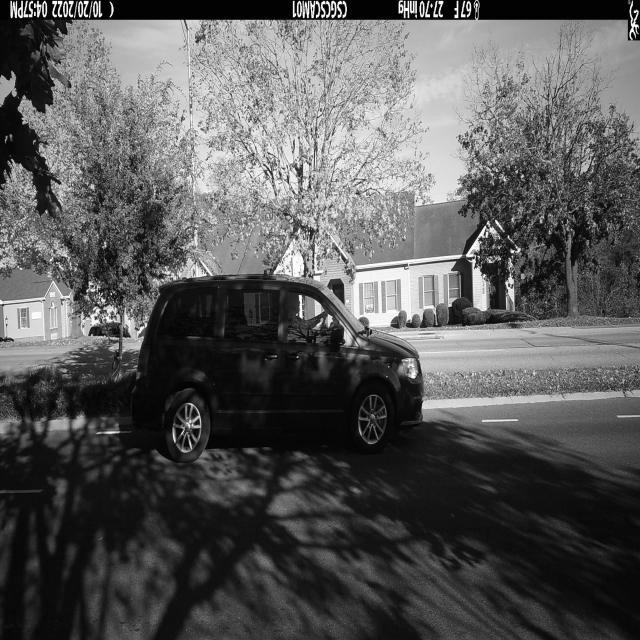Van: (133, 274, 425, 463)
